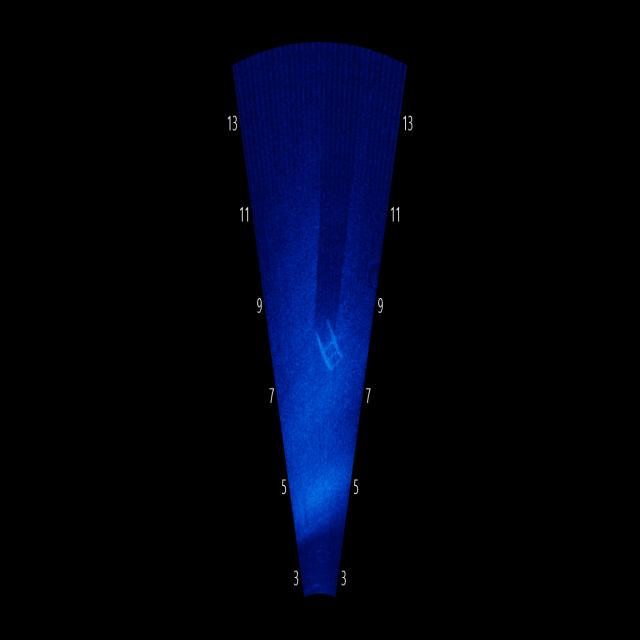square: (312, 311, 348, 385)
